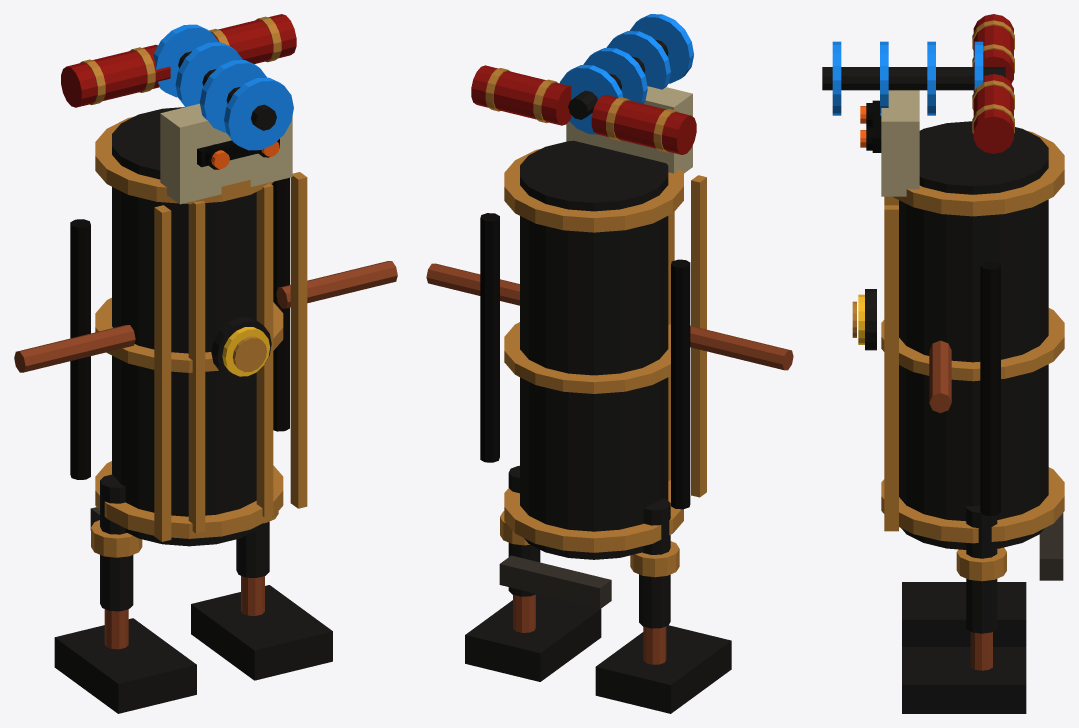
File: ENEMY_ERB_Warden_ReadabilityUpgrade_LOD0.obj
3 views of the same model, side by side, from view 1: azimuth 30°, elevation 25°; view 2: azimuth 150°, elevation 25°; view 3: azimuth 270°, elevation 25° (orthographic). The views are drawn at different scales.
Parts seen in each view (by area): view 1: warden_tall_blackened_governor_tower_core, warden_left_tripod_broad_blackened_iron_foot, warden_right_tripod_broad_blackened_iron_foot, warden_cream_command_face_plate, warden_vertical_cage_rib_00, warden_vertical_cage_rib_03, warden_vertical_cage_rib_01, warden_vertical_cage_rib_02, warden_left_command_hose, warden_lower_aged_brass_cage_ring, warden_right_command_hose, warden_left_crown_pressure_tank_danger_red_pressure_tank_shell (+18 smaller); view 2: warden_tall_blackened_governor_tower_core, warden_left_tripod_broad_blackened_iron_foot, warden_right_tripod_broad_blackened_iron_foot, warden_left_command_hose, warden_right_command_hose, warden_upper_aged_brass_cage_ring, warden_vertical_cage_rib_00, warden_lower_aged_brass_cage_ring, warden_mid_aged_brass_cage_ring, warden_rear_shutdown_cage_fragment_socket, warden_left_crown_pressure_tank_danger_red_pressure_tank_shell, warden_right_crown_pressure_tank_danger_red_pressure_tank_shell (+14 smaller); view 3: warden_tall_blackened_governor_tower_core, warden_right_tripod_broad_blackened_iron_foot, warden_left_tripod_broad_blackened_iron_foot, warden_right_command_hose, warden_vertical_cage_rib_03, warden_upper_aged_brass_cage_ring, warden_lower_aged_brass_cage_ring, warden_cream_command_face_plate, warden_overhead_blackened_bolt_spine, warden_mid_aged_brass_cage_ring, warden_right_tripod_upper_blackened_piston_leg, warden_right_crown_pressure_tank_danger_red_pressure_tank_shell (+11 smaller).
Part boxes in pixels (left/top/right/bottom): warden_tall_blackened_governor_tower_core: left=112, top=107, right=262, bottom=546; warden_left_tripod_broad_blackened_iron_foot: left=54, top=618, right=196, bottom=713; warden_right_tripod_broad_blackened_iron_foot: left=191, top=585, right=332, bottom=680; warden_cream_command_face_plate: left=160, top=103, right=292, bottom=204; warden_vertical_cage_rib_00: left=154, top=205, right=171, bottom=541; warden_vertical_cage_rib_03: left=290, top=172, right=307, bottom=508; warden_vertical_cage_rib_01: left=188, top=201, right=205, bottom=533; warden_vertical_cage_rib_02: left=256, top=183, right=273, bottom=516; warden_left_command_hose: left=70, top=219, right=90, bottom=479; warden_lower_aged_brass_cage_ring: left=95, top=461, right=283, bottom=538; warden_right_command_hose: left=271, top=177, right=289, bottom=431; warden_left_crown_pressure_tank_danger_red_pressure_tank_shell: left=61, top=44, right=170, bottom=107; warden_tall_blackened_governor_tower_core: left=520, top=140, right=668, bottom=559; warden_left_tripod_broad_blackened_iron_foot: left=595, top=625, right=731, bottom=713; warden_right_tripod_broad_blackened_iron_foot: left=465, top=594, right=601, bottom=681; warden_left_command_hose: left=671, top=259, right=690, bottom=509; warden_right_command_hose: left=480, top=213, right=499, bottom=462; warden_upper_aged_brass_cage_ring: left=504, top=149, right=683, bottom=232; warden_vertical_cage_rib_00: left=691, top=175, right=706, bottom=497; warden_lower_aged_brass_cage_ring: left=504, top=480, right=683, bottom=552; warden_mid_aged_brass_cage_ring: left=504, top=322, right=670, bottom=393; warden_rear_shutdown_cage_fragment_socket: left=499, top=555, right=611, bottom=609; warden_left_crown_pressure_tank_danger_red_pressure_tank_shell: left=591, top=95, right=696, bottom=154; warden_right_crown_pressure_tank_danger_red_pressure_tank_shell: left=471, top=65, right=571, bottom=125; warden_tall_blackened_governor_tower_core: left=899, top=121, right=1048, bottom=549; warden_right_tripod_broad_blackened_iron_foot: left=902, top=647, right=1026, bottom=713; warden_left_tripod_broad_blackened_iron_foot: left=902, top=582, right=1026, bottom=646; warden_right_command_hose: left=980, top=261, right=1000, bottom=516; warden_vertical_cage_rib_03: left=884, top=205, right=898, bottom=531; warden_upper_aged_brass_cage_ring: left=892, top=131, right=1064, bottom=216; warden_lower_aged_brass_cage_ring: left=881, top=467, right=1064, bottom=543; warden_cream_command_face_plate: left=881, top=90, right=919, bottom=196; warden_overhead_blackened_bolt_spine: left=822, top=67, right=1005, bottom=90; warden_mid_aged_brass_cage_ring: left=881, top=308, right=1064, bottom=381; warden_right_tripod_upper_blackened_piston_leg: left=966, top=506, right=997, bottom=633; warden_right_crown_pressure_tank_danger_red_pressure_tank_shell: left=973, top=74, right=1013, bottom=153.
Bounding box in the file's own units: 1.42 × 2.31 × 0.8202.
